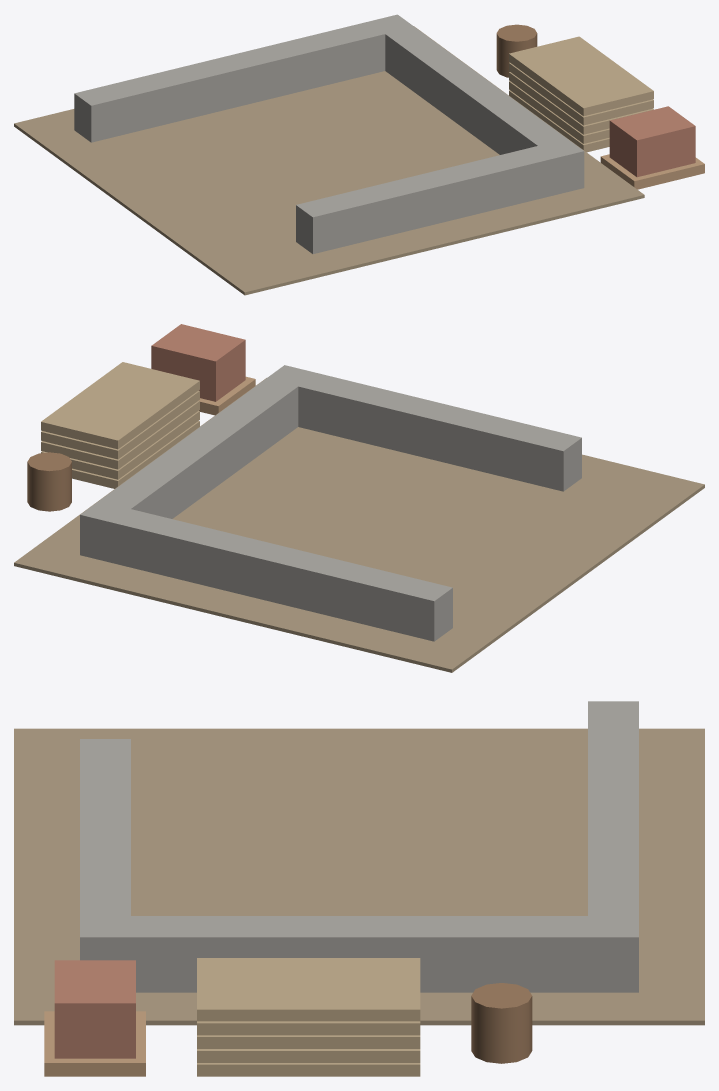
File: beehive_site_2.glb
The picture shows the model from 3 angles, top to bottom: view 1: azimuth 30°, elevation 25°; view 2: azimuth 150°, elevation 25°; view 3: azimuth 270°, elevation 25°; orthographic projection. The views are drawn at different scales.
Visible parts, largest first — view 1: body; view 2: body; view 3: body.
Boxes of the visible parts, x1,y1,x2,y2 form: body: [14, 14, 704, 295]; body: [14, 324, 704, 672]; body: [14, 701, 704, 1076].
Size of the model in its own units: 1.6 by 0.15 by 1.36.
